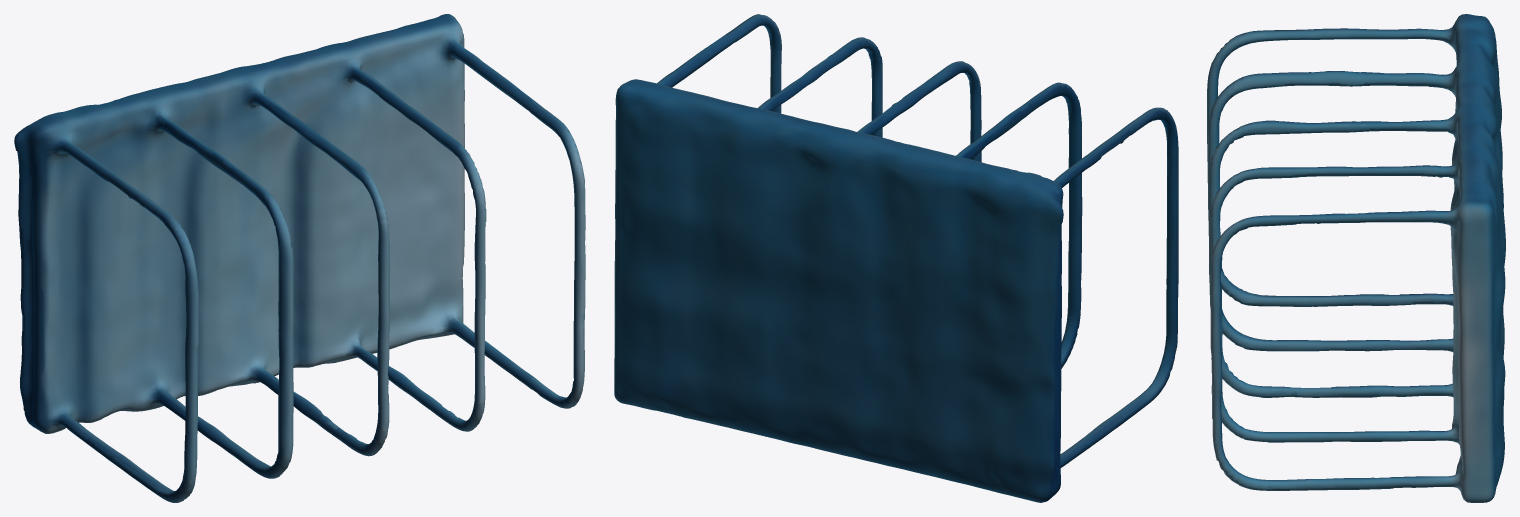
The model's file is sorter.glb.
3 views of the same model, side by side, from view 1: azimuth 30°, elevation 25°; view 2: azimuth 150°, elevation 25°; view 3: azimuth 270°, elevation 25° (orthographic). The views are drawn at different scales.
Size of the model in its own units: 0.998 by 0.6814 by 0.6156.
